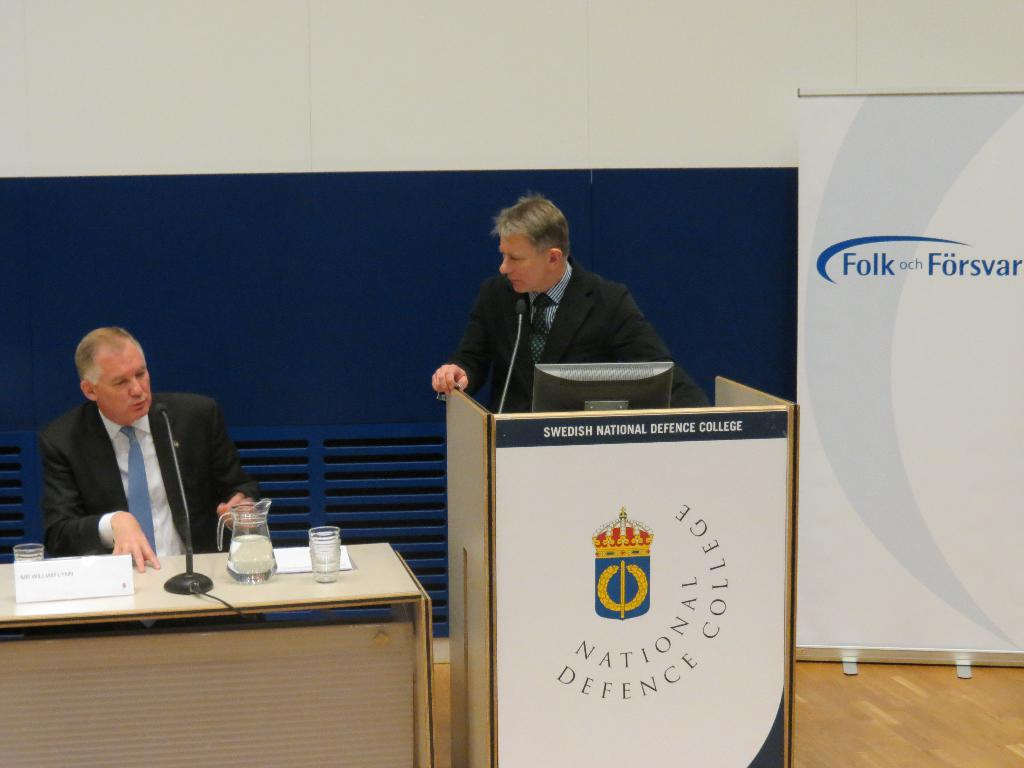Table: (4, 532, 417, 760)
